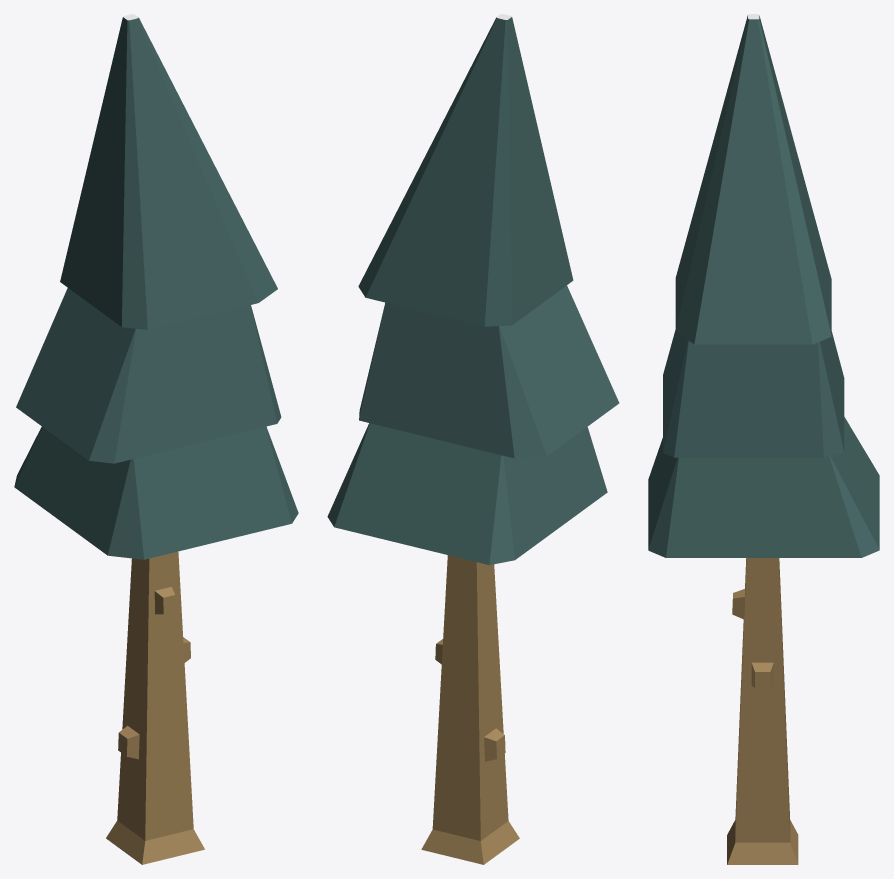
The model's file is naturePack_164.fbx.
3 views of the same model, side by side, from view 1: azimuth 30°, elevation 25°; view 2: azimuth 150°, elevation 25°; view 3: azimuth 270°, elevation 25° (orthographic). The views are drawn at different scales.
Parts seen in each view (by area): view 1: Mesh1_Group1 Model; view 2: Mesh1_Group1 Model; view 3: Mesh1_Group1 Model.
Part boxes in pixels (<box>): Mesh1_Group1 Model: <box>14,14,298,864</box>; Mesh1_Group1 Model: <box>327,14,619,864</box>; Mesh1_Group1 Model: <box>648,14,879,864</box>.
Size of the model in its own units: 1.55 by 6.12 by 1.57.
